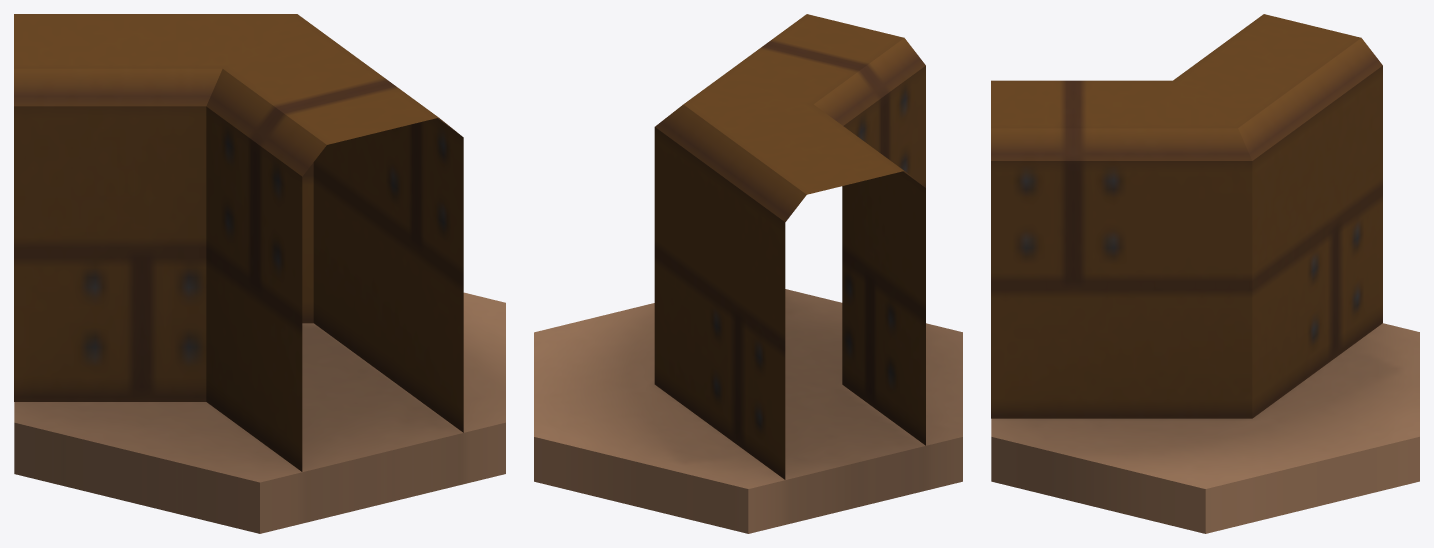
The model's file is Barriere_L_Pont.FBX.
The picture shows the model from 3 angles, left to right: view 1: azimuth 30°, elevation 25°; view 2: azimuth 150°, elevation 25°; view 3: azimuth 270°, elevation 25°; orthographic projection. The views are drawn at different scales.
Visible parts, largest first — view 1: Barriere_L_Pont; view 2: Barriere_L_Pont; view 3: Barriere_L_Pont.
Part boxes in pixels (x1,y1,x2,y2): Barriere_L_Pont: [14, 14, 505, 533]; Barriere_L_Pont: [534, 14, 962, 533]; Barriere_L_Pont: [991, 14, 1419, 533].
Bounding box in the file's own units: 1 × 0.7246 × 0.8661.
